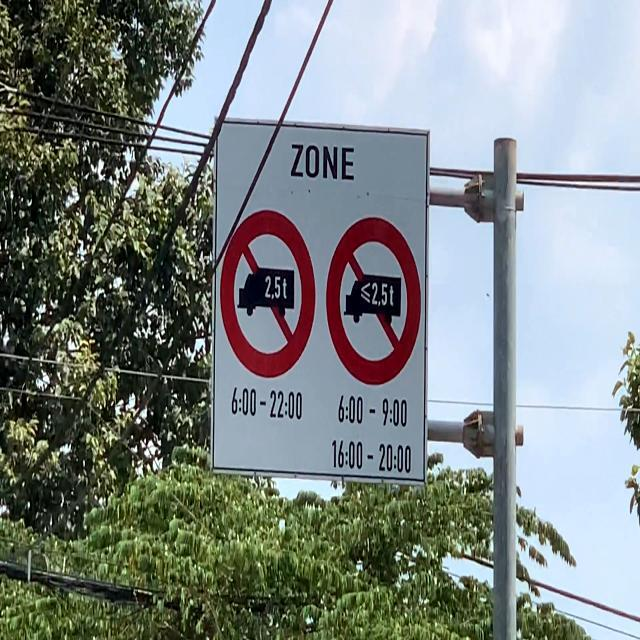Cam xe tai tren 2_5: (326, 203, 422, 390), (220, 202, 318, 376)
